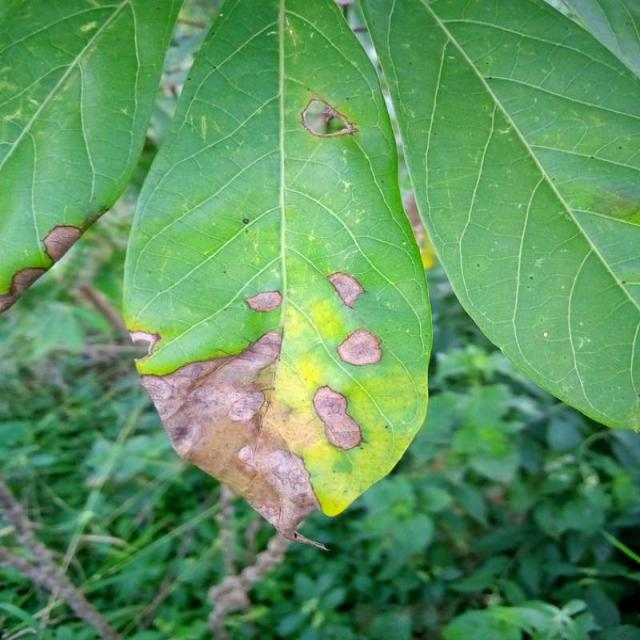cassava leaf: (120, 0, 434, 545), (359, 0, 639, 433), (0, 0, 183, 314)
